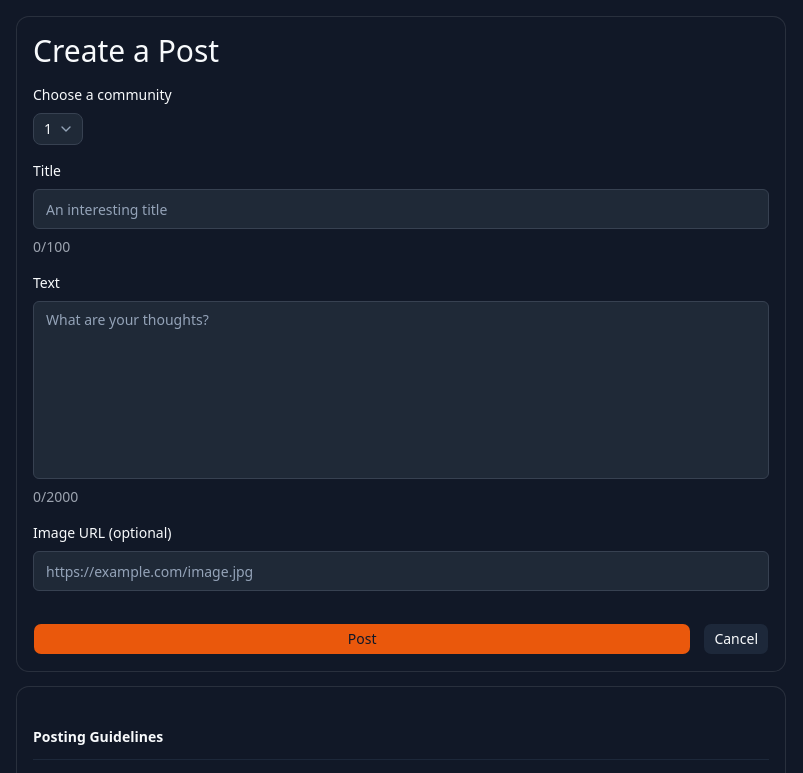
Test: Submit Page › shows loading state during submit
Type "Test" into the field labelled "Title". click: {"x": 401, "y": 209}
box: left=33, top=189, right=769, bottom=229
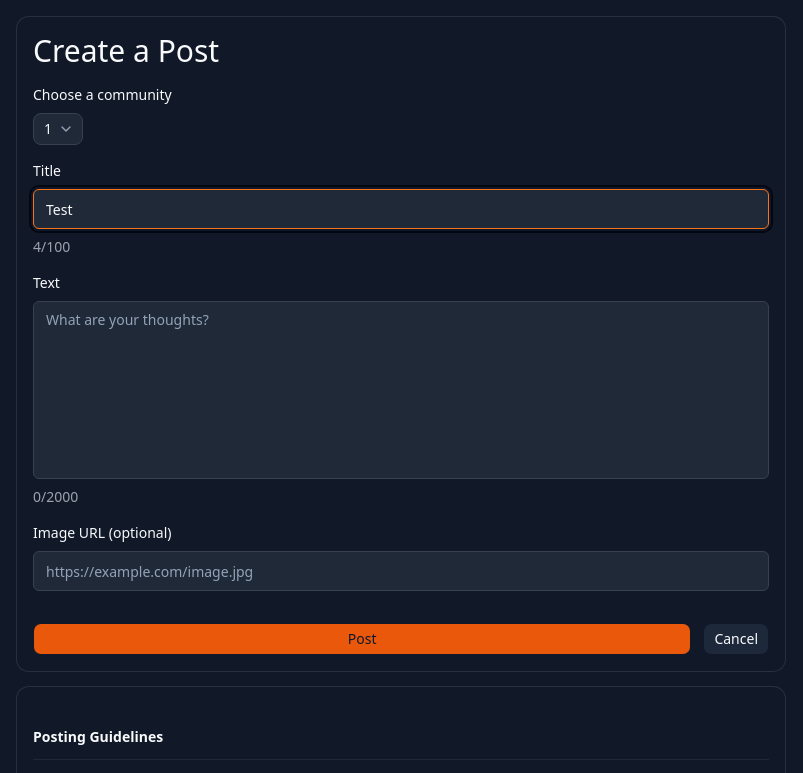
Type "Content" into the text box labelled "Text". click: {"x": 401, "y": 390}
box: left=33, top=301, right=769, bottom=479
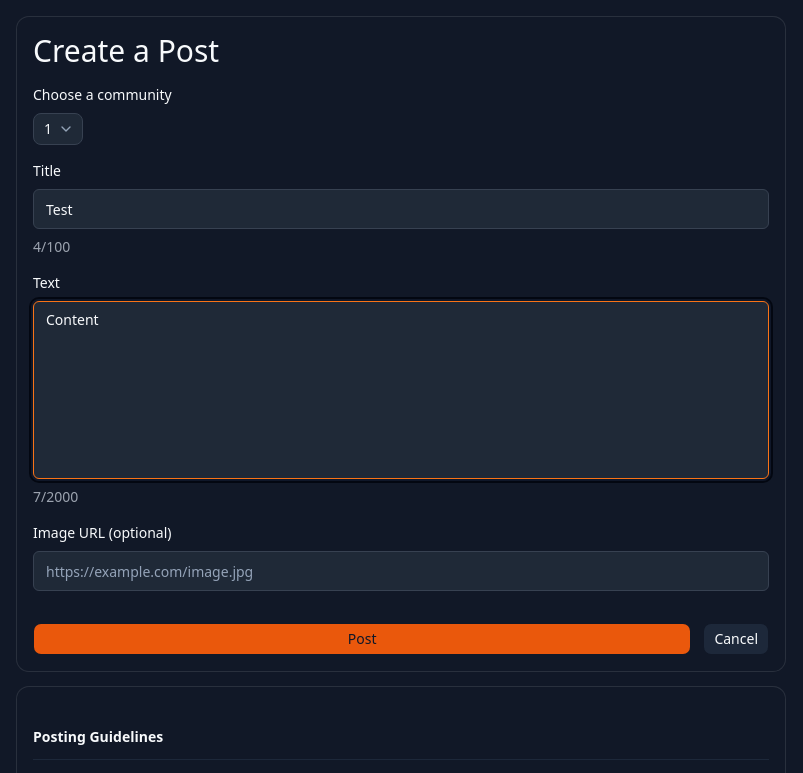
Click the button "Post". click: {"x": 362, "y": 639}
box: left=33, top=623, right=691, bottom=655
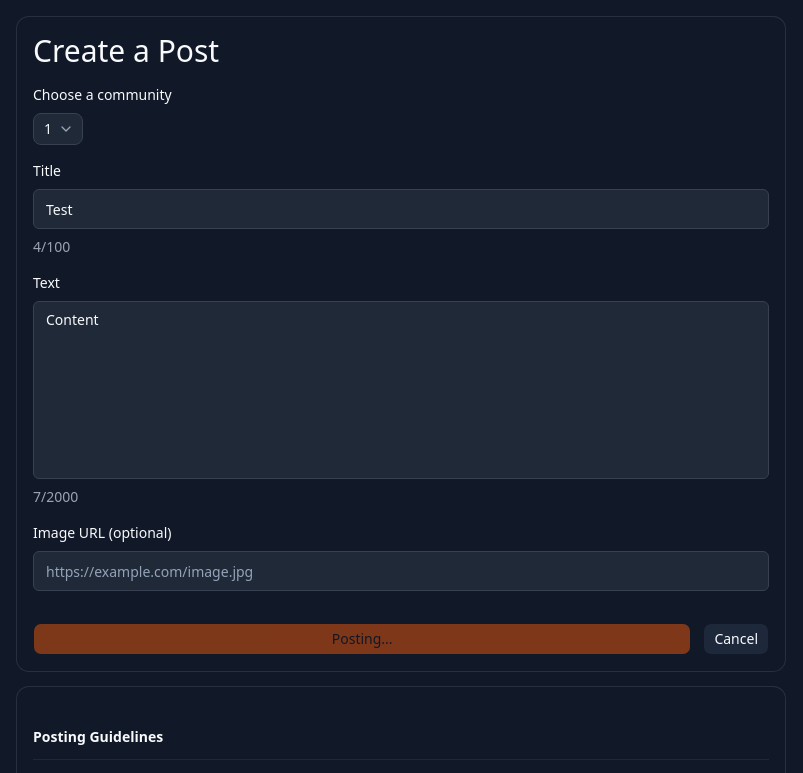
Check: the button "Posting..." is shown, box left=33, top=623, right=691, bottom=655
